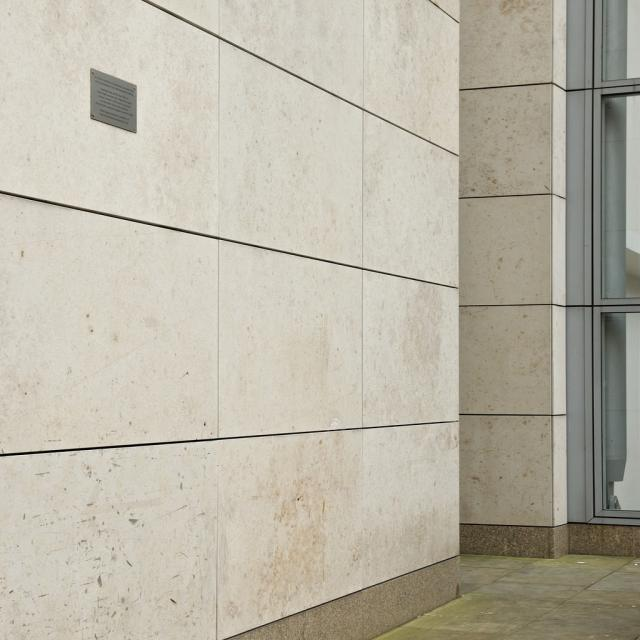no_fire: (11, 20, 640, 640)
